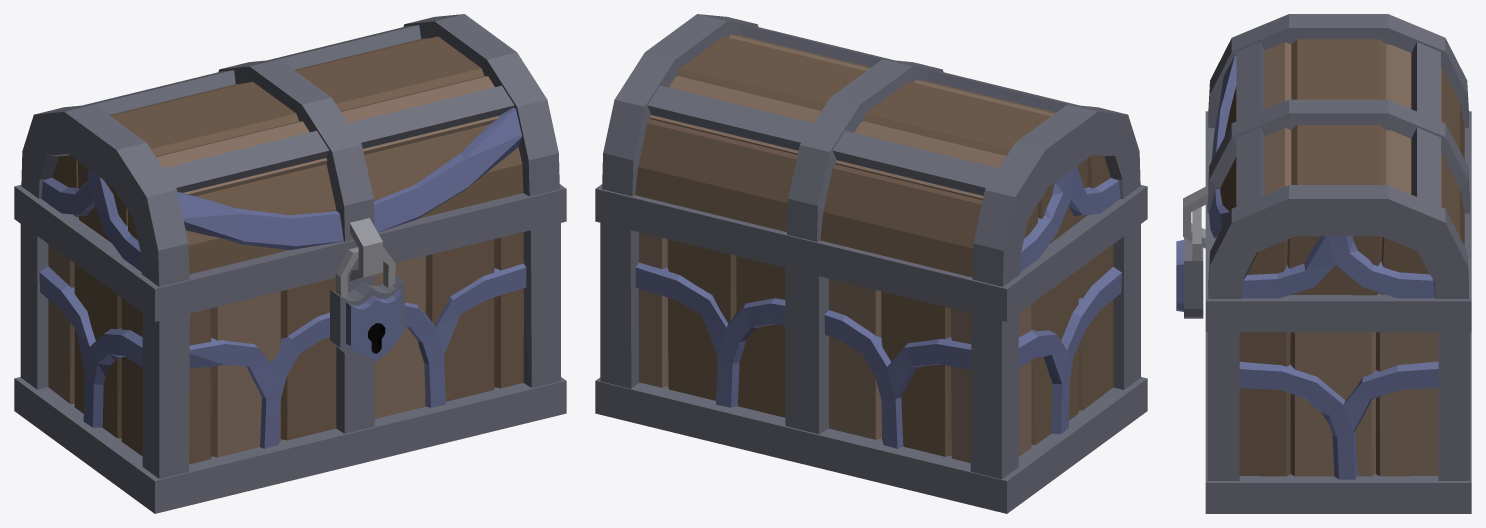
The model's file is _trunk_3.fbx.
3 views of the same model, side by side, from view 1: azimuth 30°, elevation 25°; view 2: azimuth 150°, elevation 25°; view 3: azimuth 270°, elevation 25° (orthographic). The views are drawn at different scales.
Visible parts, largest first — view 1: trunk_3; view 2: trunk_3; view 3: trunk_3.
Part boxes in pixels (<box>): trunk_3: <box>14,14,566,513</box>; trunk_3: <box>595,14,1147,513</box>; trunk_3: <box>1176,14,1471,513</box>.
Size of the model in its own units: 95.05 by 72.88 by 62.38.
